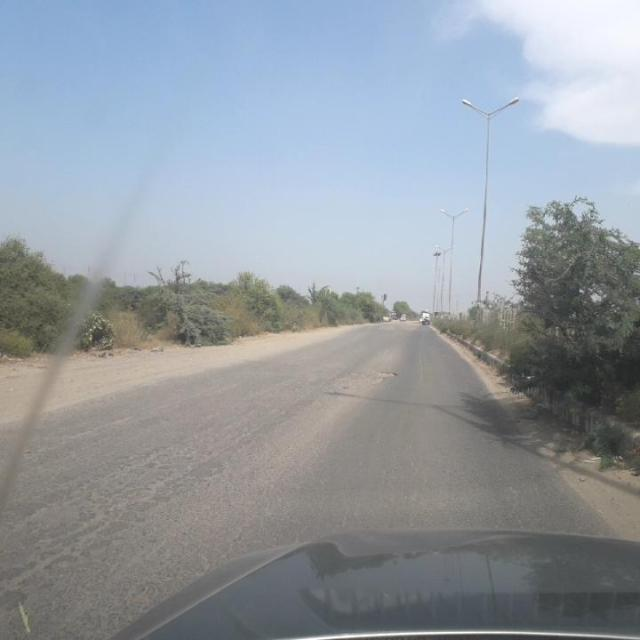D20: (0, 380, 252, 567)
D40: (363, 365, 400, 387)
